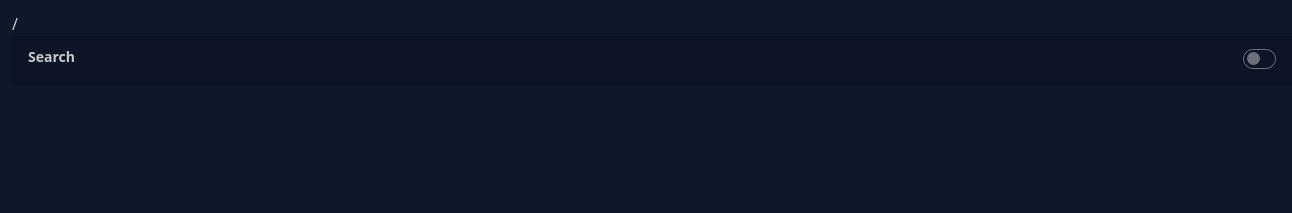
Scenario: NavSearchSection — the mount without the Exa path › offers the verb on a typo — the local answer, with no model turn
Click the checkbox labelled "Search". click: (1260, 59)
box: [1243,49,1276,69]
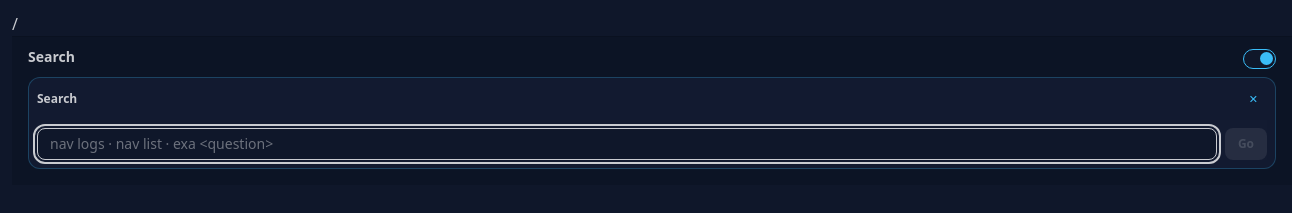
Type "navv logs" into the dropdown named "Search commands". click: (627, 144)
box: [37,128,1217,160]
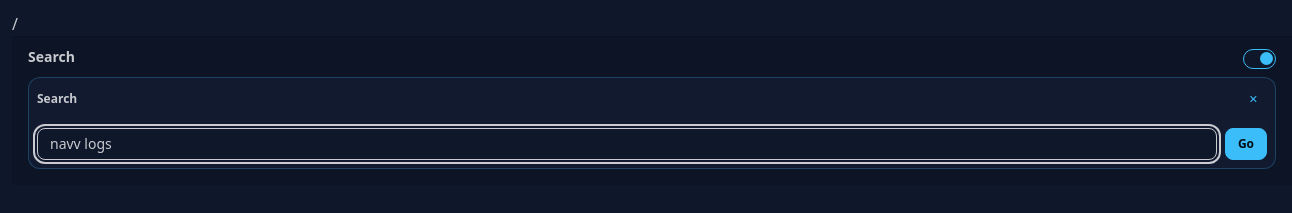
Click the button labelled "Go". click: (1246, 144)
box: [1225,128,1267,160]
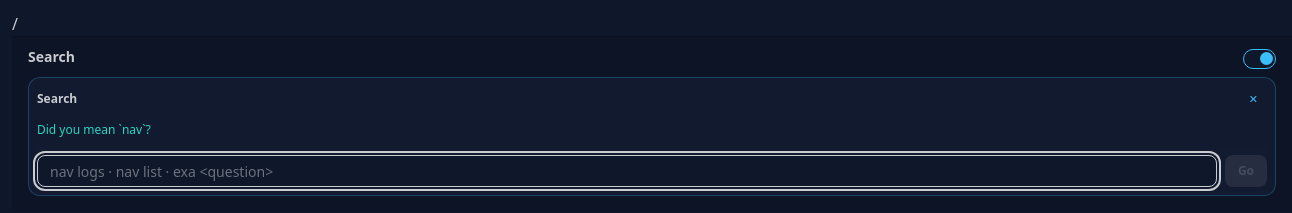
Expected: the text "Did you mean `nav`?" is shown, [37,121,151,138]
